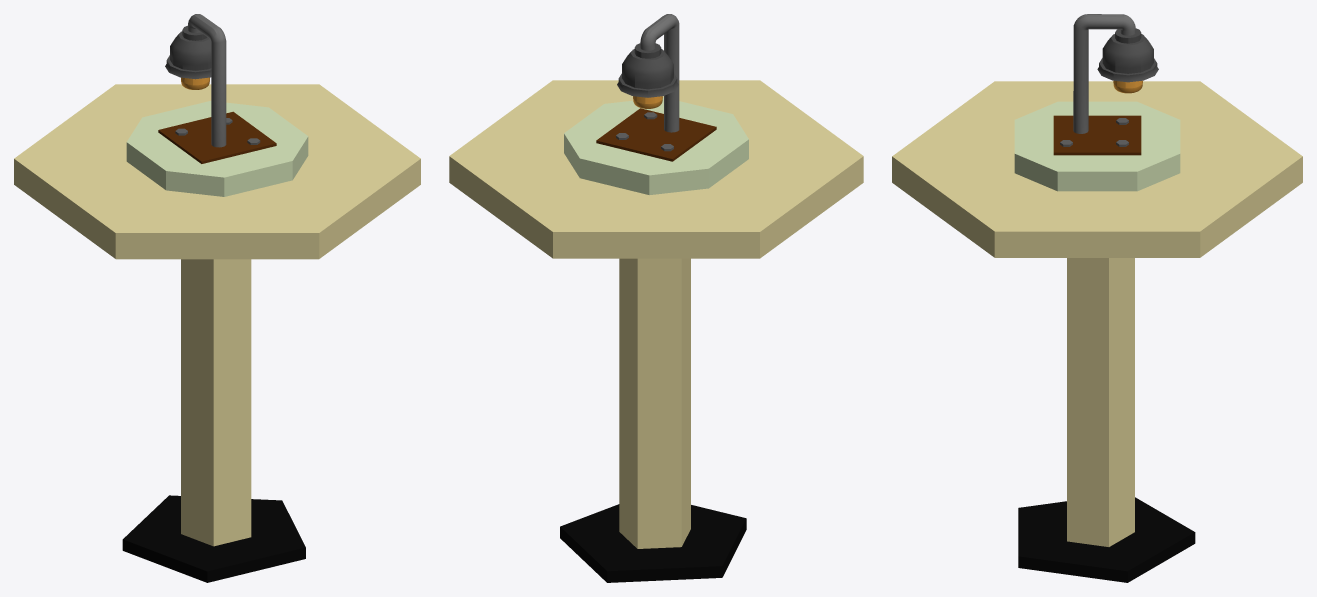
The model's file is meja lampu .fbx.
3 views of the same model, side by side, from view 1: azimuth 30°, elevation 25°; view 2: azimuth 150°, elevation 25°; view 3: azimuth 270°, elevation 25° (orthographic).
Visible parts, largest first — view 1: Cylinder, Cylinder.033, Cube.005, Cylinder.034, Cube.006, Cylinder.039, Cylinder.036; view 2: Cylinder, Cylinder.033, Cube.005, Cylinder.034, Cube.006, Cylinder.036, Cylinder.039; view 3: Cylinder, Cylinder.033, Cube.005, Cylinder.034, Cube.006, Cylinder.039, Cylinder.036.
Boxes of the visible parts, <box> form: Cylinder: <box>14,84,420,259</box>; Cylinder.033: <box>181,259,251,546</box>; Cube.005: <box>126,101,308,196</box>; Cylinder.034: <box>122,495,305,582</box>; Cube.006: <box>158,111,276,163</box>; Cylinder.039: <box>188,14,226,147</box>; Cylinder.036: <box>165,25,211,79</box>; Cylinder: <box>449,80,863,258</box>; Cylinder.033: <box>619,258,690,548</box>; Cube.005: <box>564,97,748,195</box>; Cylinder.034: <box>560,504,746,582</box>; Cube.006: <box>596,108,716,161</box>; Cylinder.036: <box>617,43,678,97</box>; Cylinder.039: <box>640,14,679,132</box>; Cylinder: <box>892,81,1302,257</box>; Cylinder.033: <box>1067,258,1134,546</box>; Cube.005: <box>1014,101,1180,191</box>; Cylinder.034: <box>1018,497,1195,582</box>; Cube.006: <box>1053,115,1141,155</box>; Cylinder.039: <box>1073,14,1135,133</box>; Cylinder.036: <box>1097,28,1158,82</box>.
Size of the model in its own units: 364 by 594 by 420.
